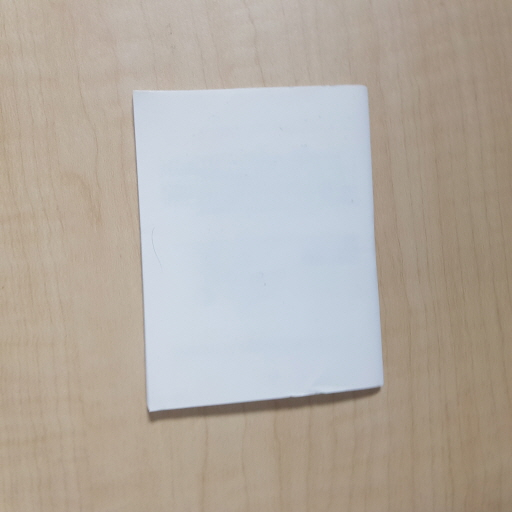Paper_0: (116, 68, 396, 425)
